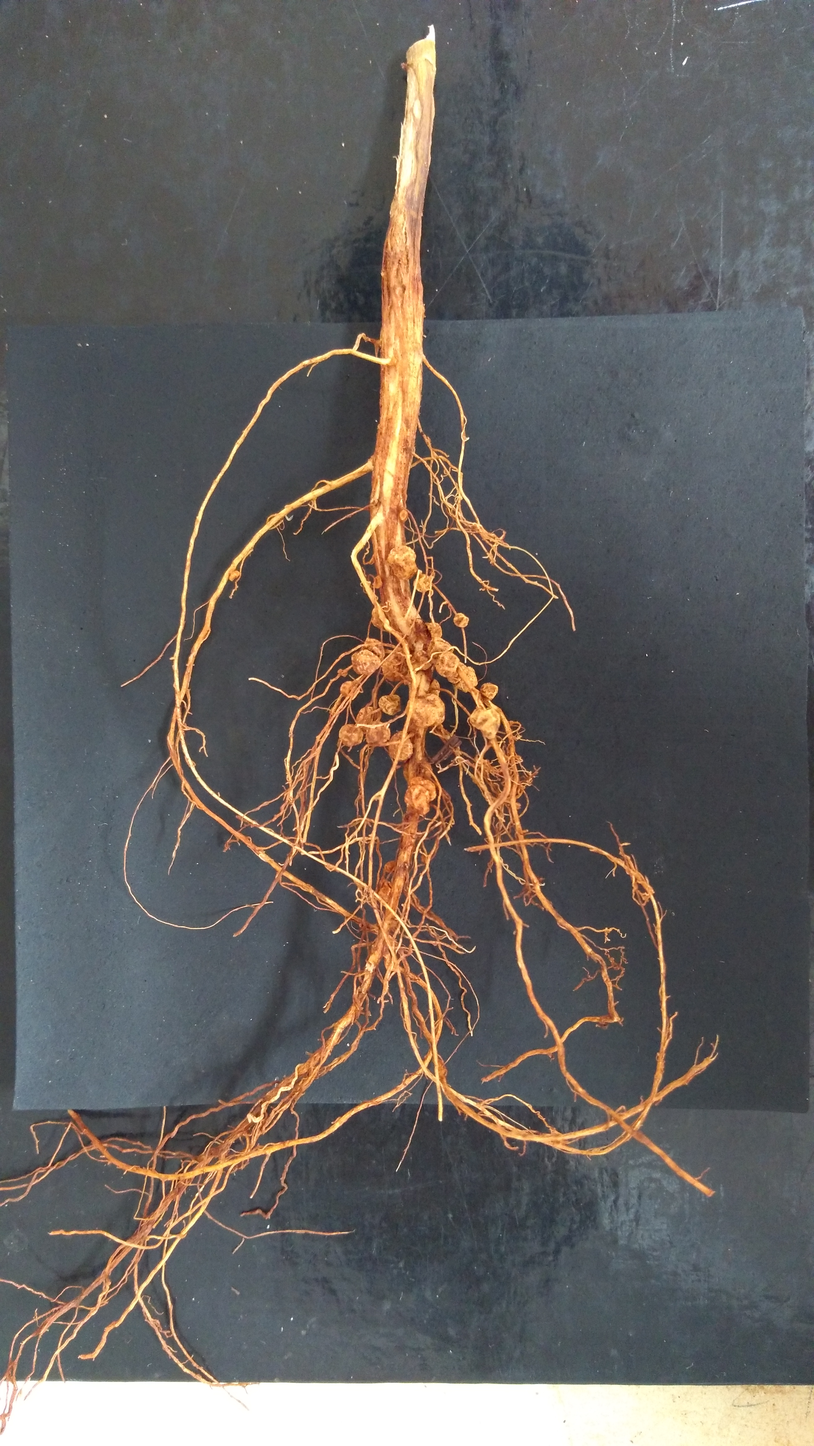nodule: (406, 694, 445, 727), (387, 546, 417, 580), (469, 708, 500, 739), (382, 649, 408, 681), (404, 784, 430, 815), (388, 731, 413, 763), (427, 637, 454, 664), (351, 650, 380, 674), (409, 777, 436, 801), (435, 651, 459, 677), (456, 666, 478, 693), (365, 721, 390, 743), (339, 724, 364, 746), (360, 639, 385, 660), (355, 707, 373, 734), (370, 606, 389, 631), (412, 671, 430, 696), (379, 695, 401, 715), (410, 650, 431, 670), (447, 663, 468, 683), (378, 877, 391, 902), (480, 682, 498, 700), (414, 573, 431, 592), (340, 681, 359, 698), (427, 622, 442, 639), (453, 613, 469, 627), (430, 679, 440, 696), (384, 860, 396, 872), (372, 575, 383, 588), (228, 570, 240, 581), (399, 509, 408, 521), (337, 669, 347, 677), (420, 854, 427, 863), (514, 802, 521, 810), (377, 546, 381, 551)
